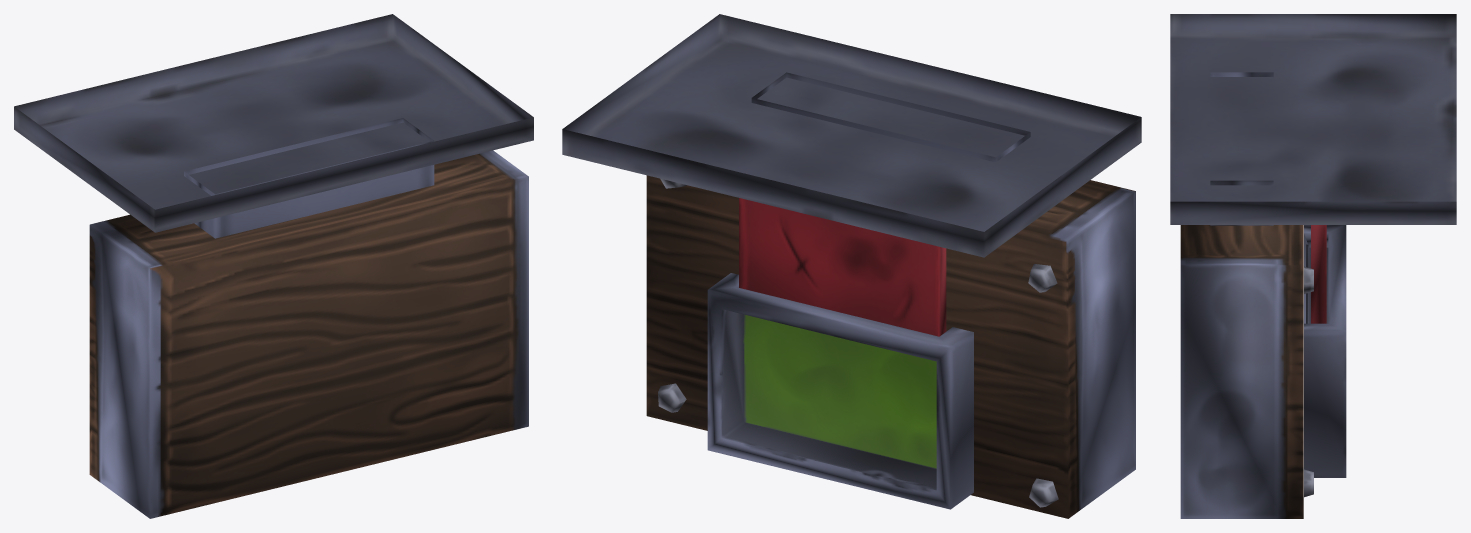
File: env_ChuteChecker.fbx
3 renders of one model, left to right at view 1: azimuth 30°, elevation 25°; view 2: azimuth 150°, elevation 25°; view 3: azimuth 270°, elevation 25°, orthographic. The views are drawn at different scales.
Visible parts, largest first — view 1: body; view 2: body, redBoard; view 3: body, redBoard.
Boxes of the visible parts, x1,y1,x2,y2 form: body: (14,14,533,518); body: (562,14,1141,518); redBoard: (739,198,946,336); body: (1170,14,1456,518); redBoard: (1311,225,1326,323).
Bounding box in the file's own units: 65.3 × 51.55 × 42.15.
